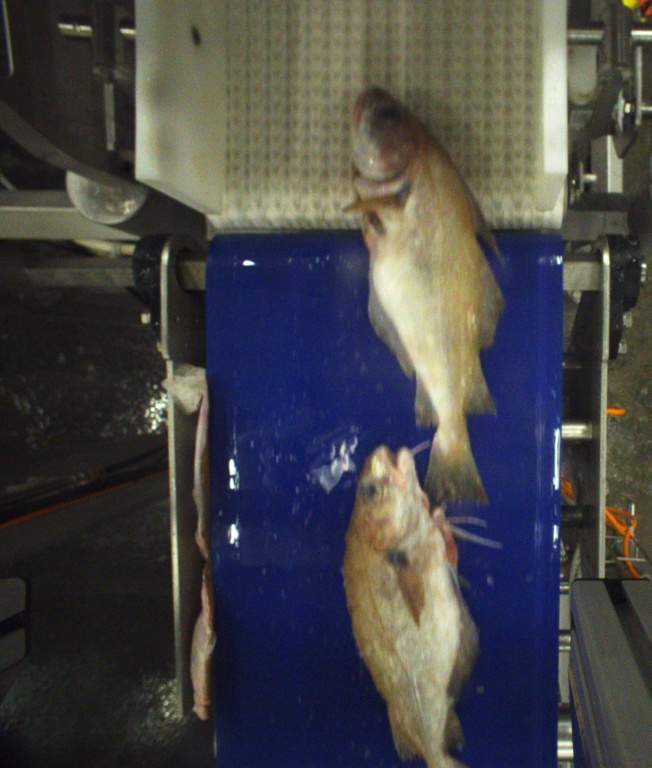BIB: (342, 444, 503, 768)
